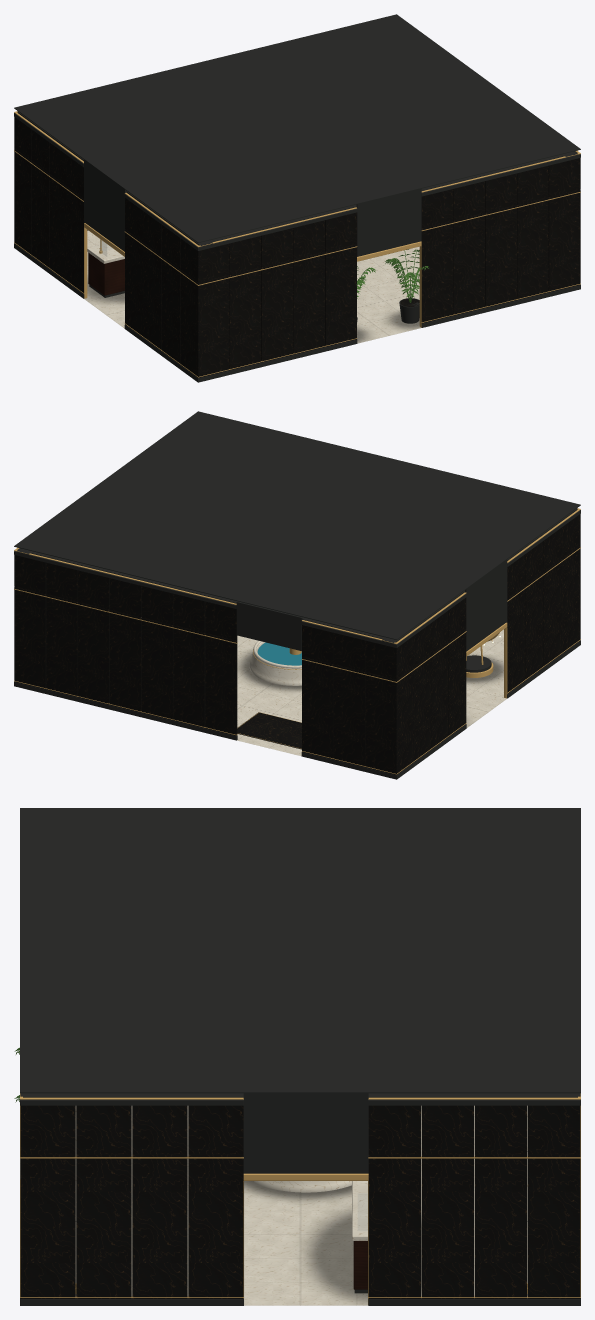
File: casino-hall-v1.glb
3 renders of one model, top to bottom at view 1: azimuth 30°, elevation 25°; view 2: azimuth 150°, elevation 25°; view 3: azimuth 270°, elevation 25°, orthographic. The views are drawn at different scales.
Visible parts, largest first — view 1: Static — Hall charcoal, Static — Hall noir marble, Static — Hall tiled marble floor, Static — Hall satin brass, Static — Hall walnut, Static — Hall palm leaves; view 2: Static — Hall charcoal, Static — Hall noir marble, Static — Hall tiled marble floor, Static — Hall satin brass, Static — Hall ivory marble, FountainWater; view 3: Static — Hall charcoal, Static — Hall noir marble, Static — Hall tiled marble floor, Static — Hall satin brass, Static — Hall ivory marble, Static — Hall walnut.
Boxes of the visible parts, bbox=[...] form: Static — Hall charcoal: bbox=[14, 14, 580, 382]; Static — Hall noir marble: bbox=[14, 117, 580, 377]; Static — Hall tiled marble floor: bbox=[84, 230, 421, 343]; Static — Hall satin brass: bbox=[14, 111, 580, 377]; Static — Hall walnut: bbox=[88, 252, 124, 295]; Static — Hall palm leaves: bbox=[356, 249, 428, 302]; Static — Hall charcoal: bbox=[14, 411, 580, 779]; Static — Hall noir marble: bbox=[14, 514, 580, 774]; Static — Hall tiled marble floor: bbox=[237, 629, 506, 756]; Static — Hall satin brass: bbox=[14, 508, 580, 774]; Static — Hall ivory marble: bbox=[249, 640, 301, 685]; FountainWater: bbox=[257, 642, 301, 665]; Static — Hall charcoal: bbox=[20, 808, 580, 1305]; Static — Hall noir marble: bbox=[20, 1105, 580, 1298]; Static — Hall tiled marble floor: bbox=[20, 1105, 527, 1305]; Static — Hall satin brass: bbox=[20, 1093, 580, 1304]; Static — Hall ivory marble: bbox=[75, 1105, 527, 1283]; Static — Hall walnut: bbox=[353, 1241, 367, 1289].
Size of the model in its own units: 12.01 by 4.2 by 10.11.
17 materials, 4 textured.
